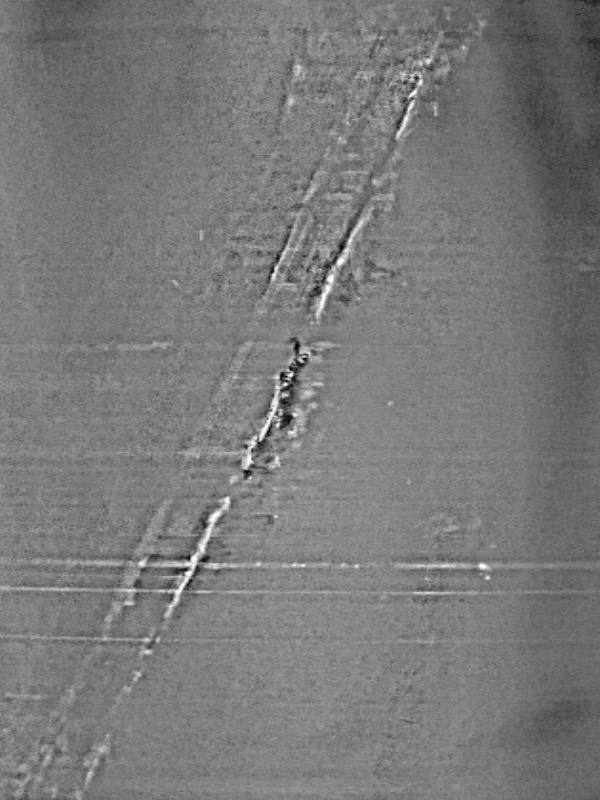splice_vulcanized: (6, 1, 460, 800)
